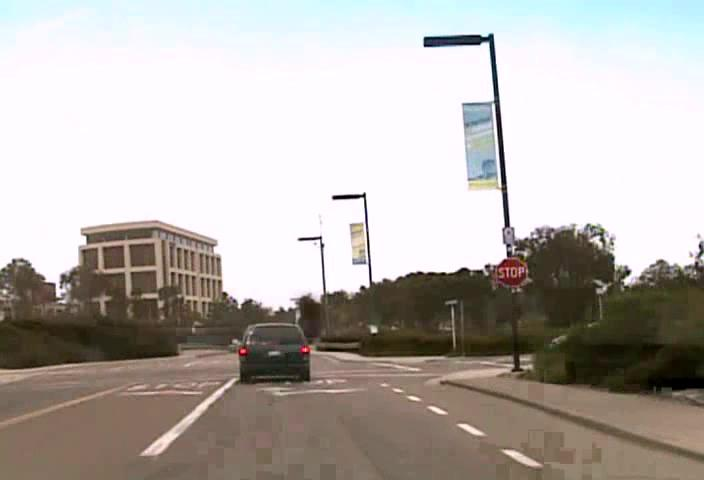stop: (496, 257, 527, 287)
